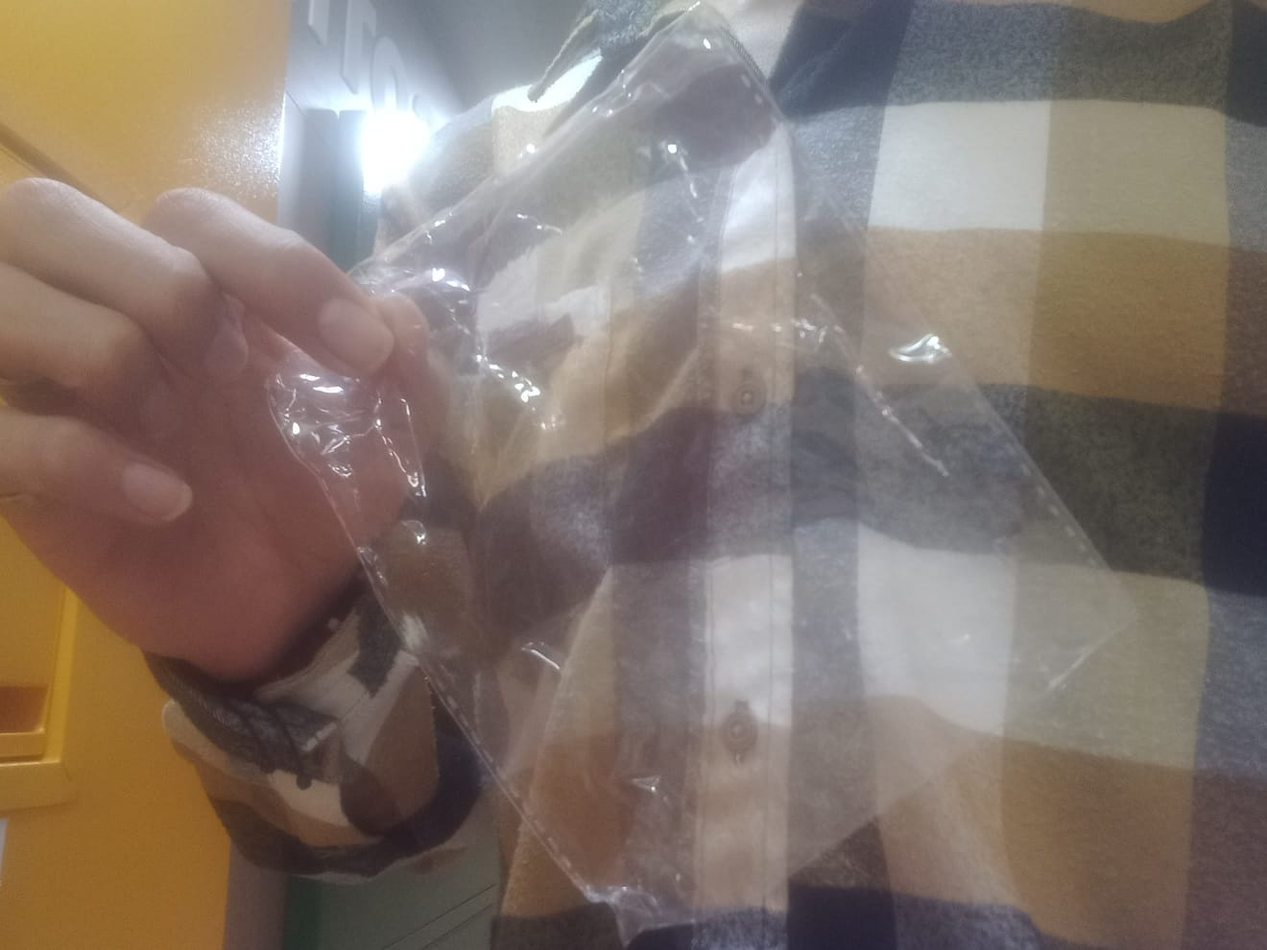Plastico: (261, 0, 1137, 943)
